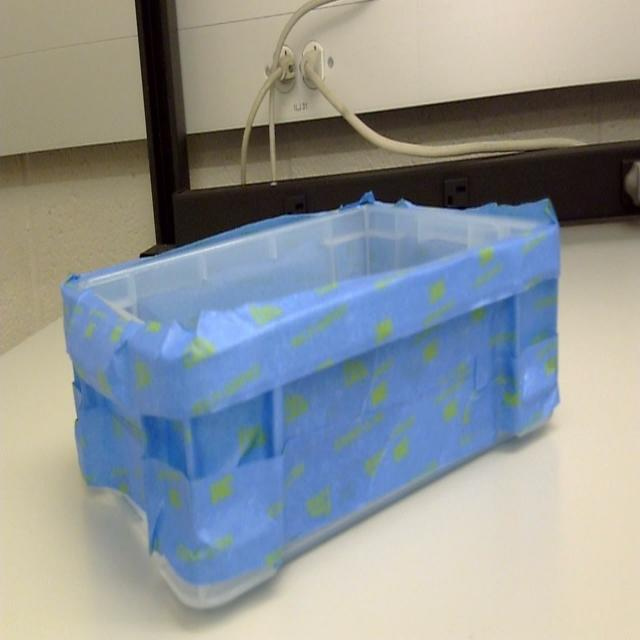bucket: (59, 200, 562, 614)
